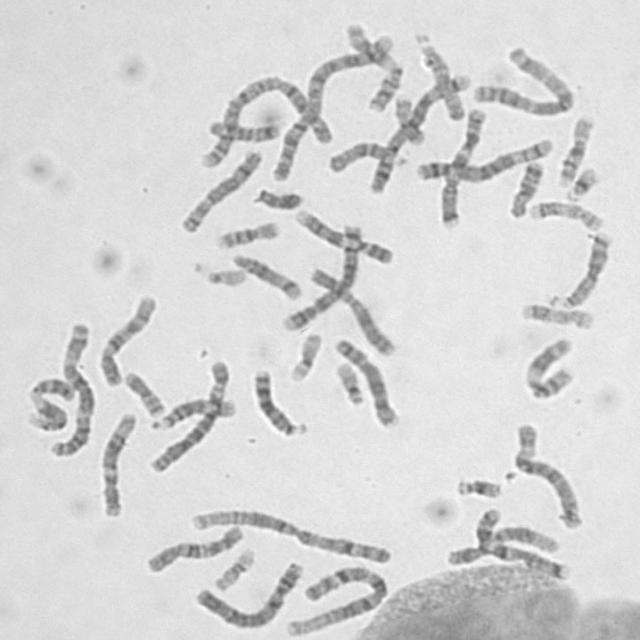A1: (182, 502, 396, 566), (280, 559, 391, 638)
A2: (264, 24, 397, 184), (193, 70, 338, 172)
A3: (465, 41, 577, 117), (43, 316, 97, 460)
B4: (276, 216, 364, 333), (187, 554, 305, 632)
B5: (362, 65, 472, 197), (409, 130, 556, 183)
C10: (92, 288, 158, 388), (140, 518, 247, 574)
C11: (341, 18, 406, 113), (518, 331, 577, 401)
C12: (441, 519, 562, 567), (92, 406, 138, 520)
C6: (142, 354, 232, 474), (506, 416, 584, 530)
C7: (469, 503, 570, 581), (434, 100, 489, 230)
C8: (174, 142, 265, 234), (328, 331, 401, 430)
C9: (289, 202, 396, 264), (22, 368, 81, 436)
D13: (544, 225, 612, 310), (247, 362, 310, 437)
D14: (225, 246, 304, 302), (142, 392, 239, 432)
D15: (409, 26, 469, 122), (321, 135, 409, 175)
E16: (552, 109, 597, 188), (210, 214, 282, 250)
E17: (522, 194, 606, 232), (514, 296, 596, 331)
E18: (503, 154, 546, 220), (200, 112, 284, 143)
F19: (208, 542, 258, 592), (282, 325, 324, 383)
F20: (118, 364, 168, 418), (389, 90, 428, 146)
G21: (560, 160, 602, 202), (449, 470, 505, 500)
G22: (329, 354, 368, 408), (195, 260, 248, 287)
X: (303, 260, 399, 358)
Y: (249, 182, 305, 211)
